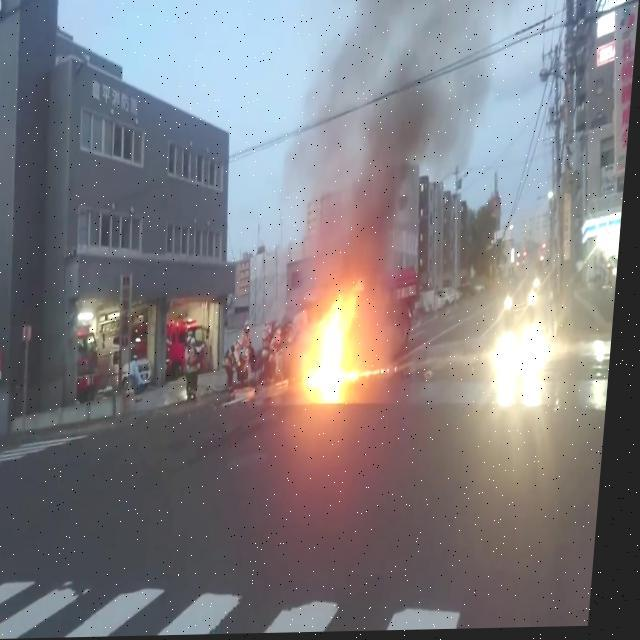Fire: (302, 287, 406, 388)
